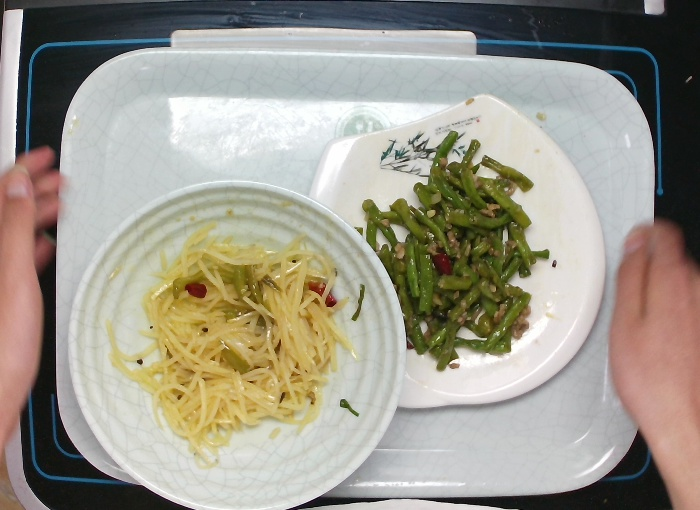JYsf-Da_Tang_Wan: (63, 175, 410, 509)
JYsf-Mian_Pan: (304, 89, 611, 414)
